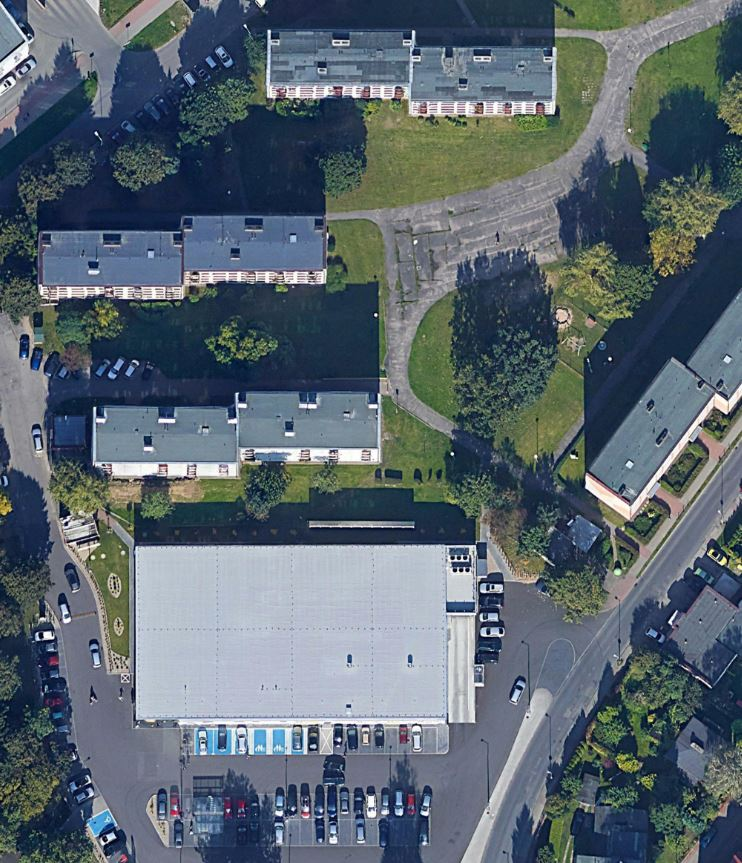block of flats: (577, 277, 742, 525), (82, 375, 392, 490), (259, 21, 565, 123), (32, 207, 332, 306), (654, 574, 742, 702)
shopping_center: (115, 528, 494, 737)
